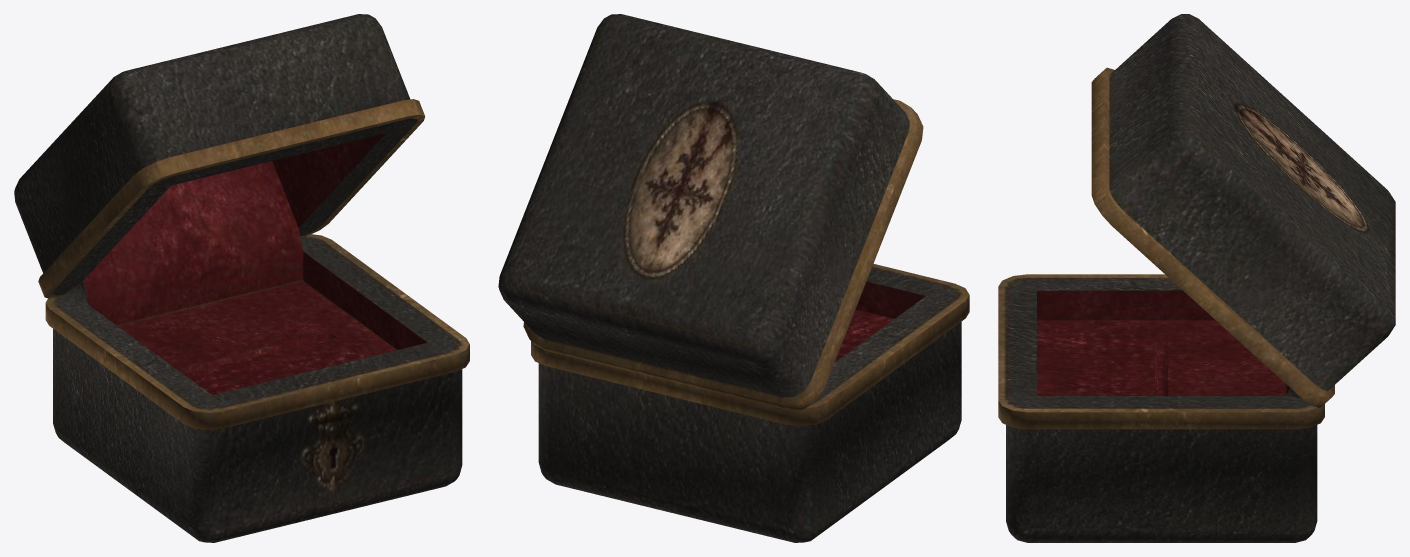
File: RingBox.glb
3 renders of one model, left to right at view 1: azimuth 30°, elevation 25°; view 2: azimuth 150°, elevation 25°; view 3: azimuth 270°, elevation 25°, orthographic. The views are drawn at different scales.
Parts seen in each view (by area): view 1: RingBox_Baked; view 2: RingBox_Baked; view 3: RingBox_Baked.
Boxes of the visible parts, left/top/right/bottom form: RingBox_Baked: left=14, top=14, right=469, bottom=542; RingBox_Baked: left=498, top=14, right=969, bottom=542; RingBox_Baked: left=998, top=14, right=1395, bottom=542.
Size of the model in its own units: 0.0524 by 0.0729 by 0.0638.
Materials: 1 (1 with a texture image).
